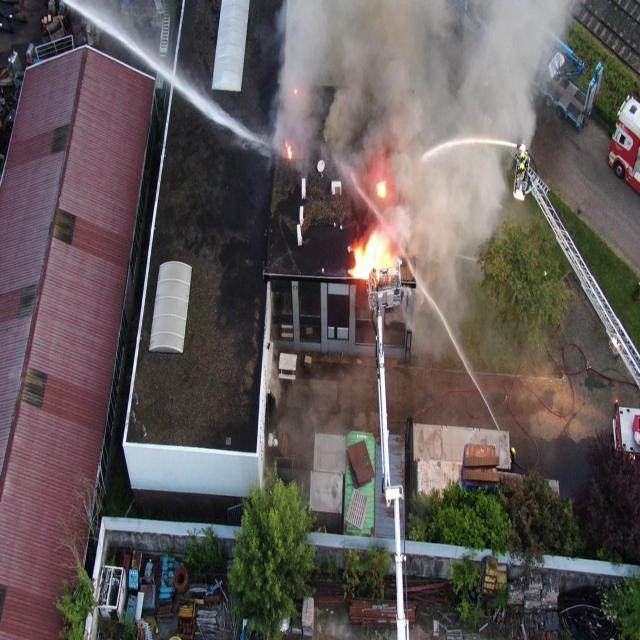Fire: (348, 230, 394, 282), (376, 182, 386, 198), (286, 140, 292, 160), (294, 88, 298, 95)
Smoke: (266, 0, 584, 358), (266, 362, 282, 408)
